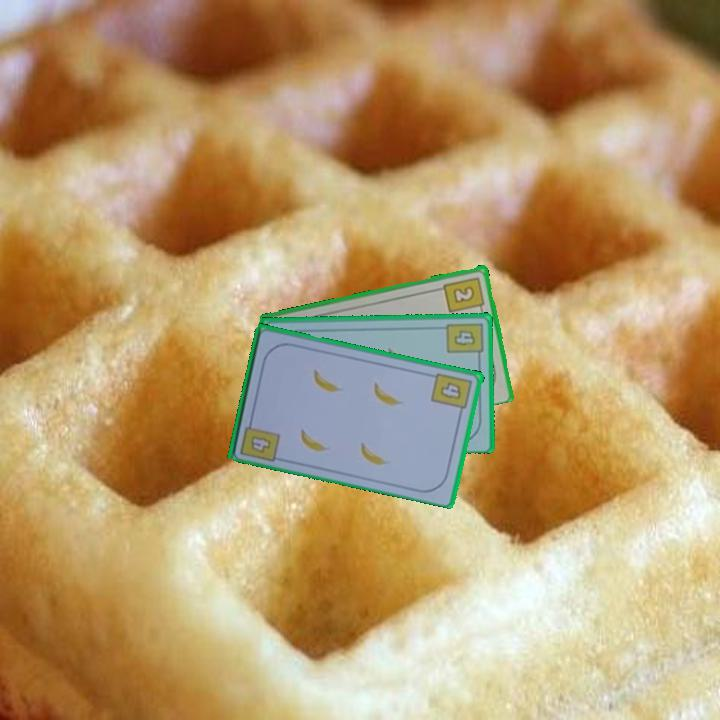2b: (441, 273, 488, 315)
4b: (428, 369, 476, 418), (443, 319, 485, 362), (247, 432, 274, 456)
